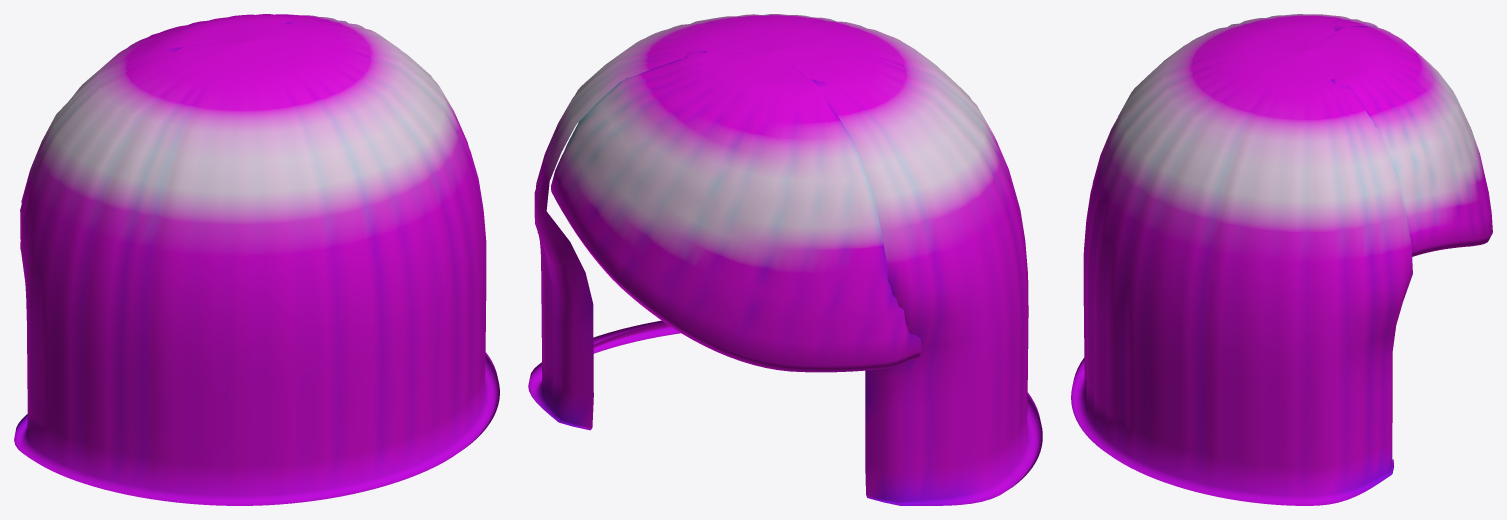
Rendered from side.glb.
3 views of the same model, side by side, from view 1: azimuth 30°, elevation 25°; view 2: azimuth 150°, elevation 25°; view 3: azimuth 270°, elevation 25° (orthographic). The views are drawn at different scales.
Visible parts, largest first — view 1: side; view 2: side; view 3: side.
Part boxes in pixels (x1,y1,x2,y2): side: [14, 14, 499, 505]; side: [528, 14, 1042, 505]; side: [1071, 14, 1492, 505].
Bounding box in the file's own units: 1.16 × 0.8965 × 0.9749.
